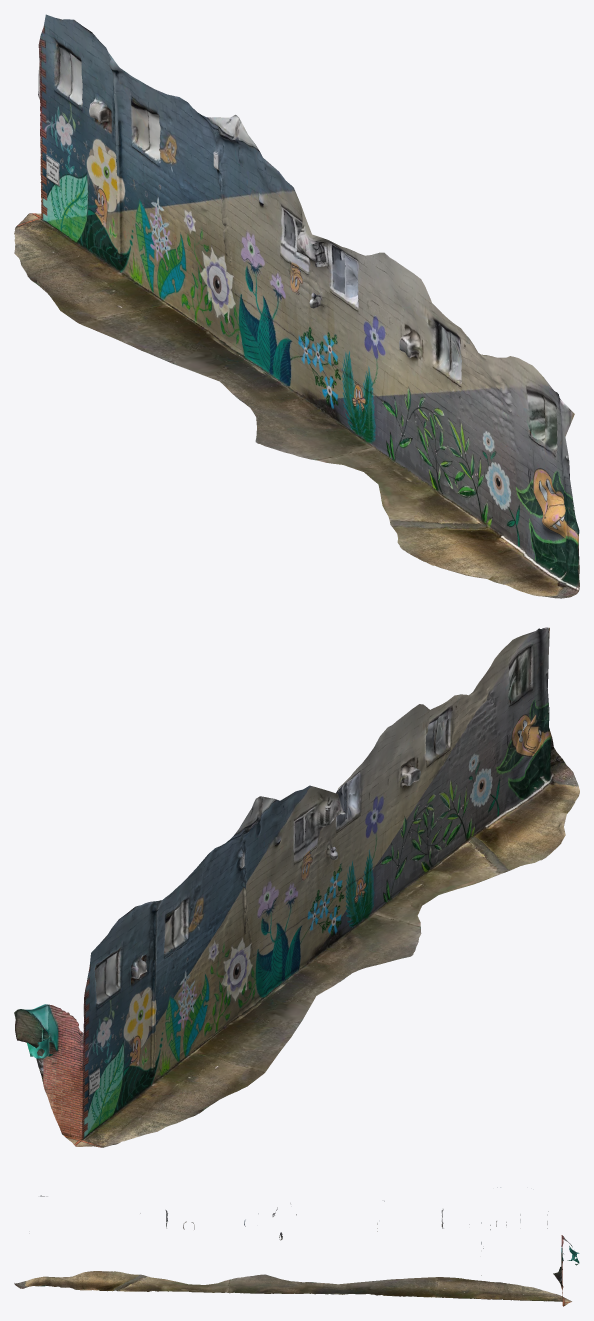
Rendered from BCYCLCHN.glb.
The picture shows the model from 3 angles, top to bottom: view 1: azimuth 30°, elevation 25°; view 2: azimuth 150°, elevation 25°; view 3: azimuth 270°, elevation 25°; orthographic projection. The views are drawn at different scales.
Bounding box in the file's own units: 3.54 × 5.1 × 20.71.
Materials: 1 (1 with a texture image).
